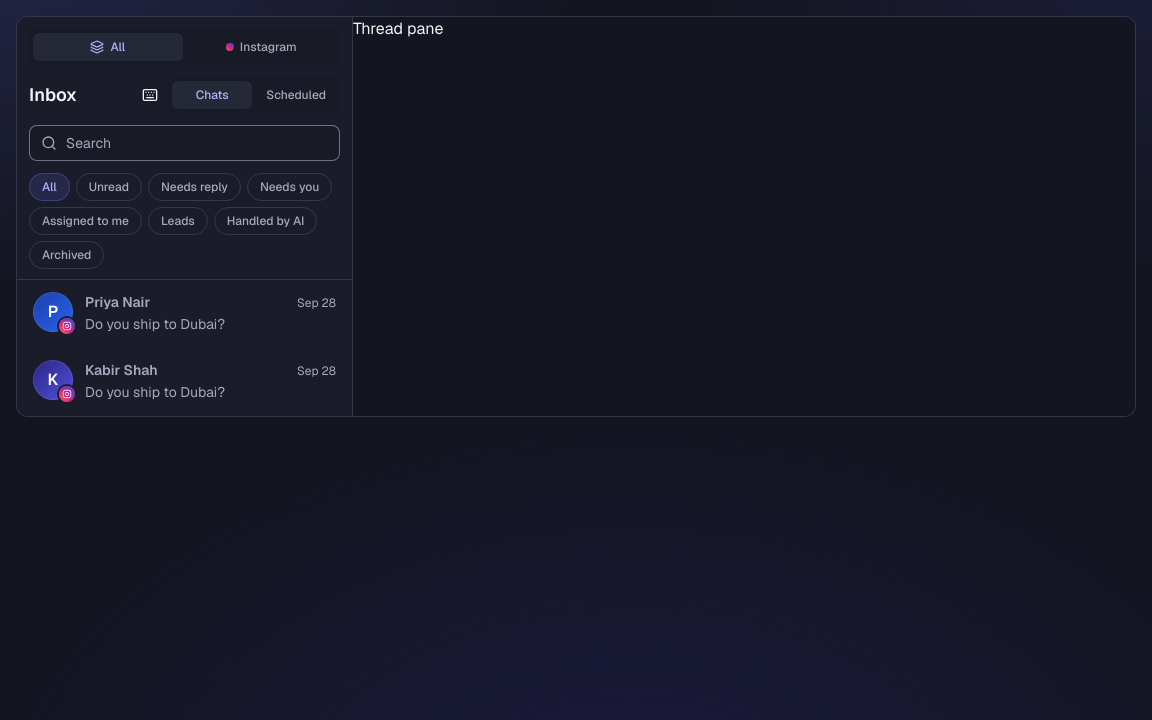
InboxShell list states (§4.7) › Needs you and Archived are plain chips; there is no More menu (D-15 item 4)
The width and height of the screenshot is (1152, 720).
Expected: the text "Kabir Shah" is shown, [85,361,158,379]
Click the radio button labelled "Needs you" at {"x": 290, "y": 187}, box [247,173,332,201]
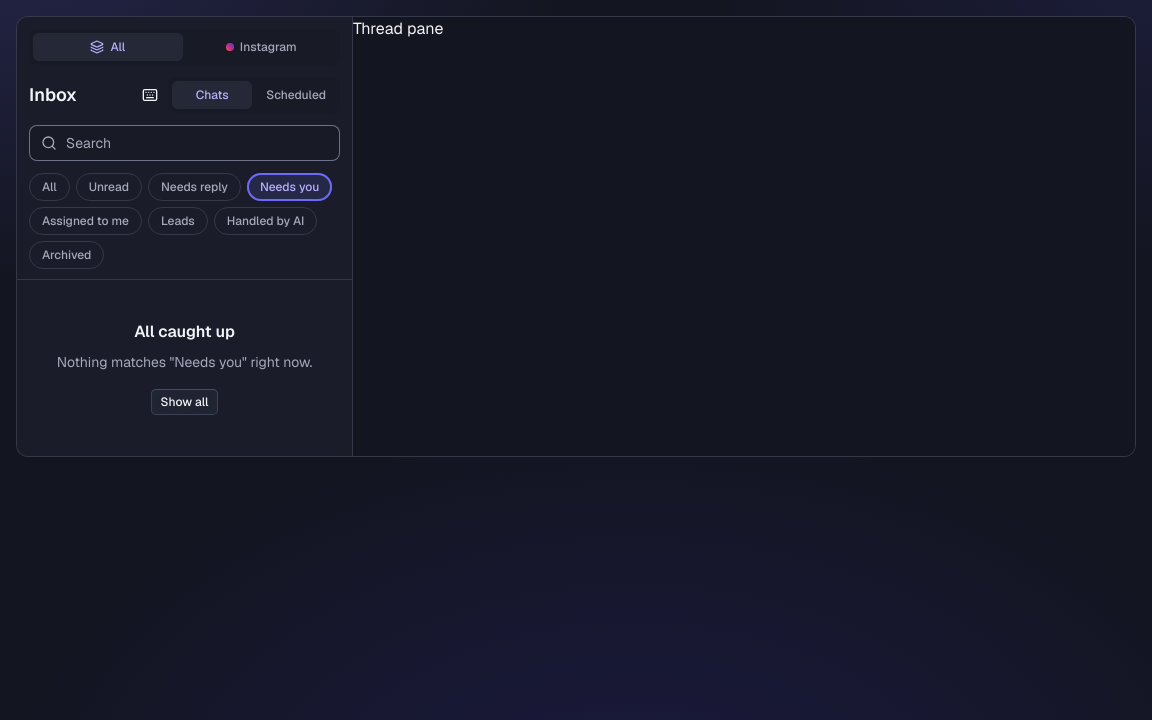
Expected: the text "Nothing matches \"Needs you\" right now." is shown, [57,352,312,372]
Click the radio button labelled "Archived" at {"x": 67, "y": 255}, box [29,241,104,269]
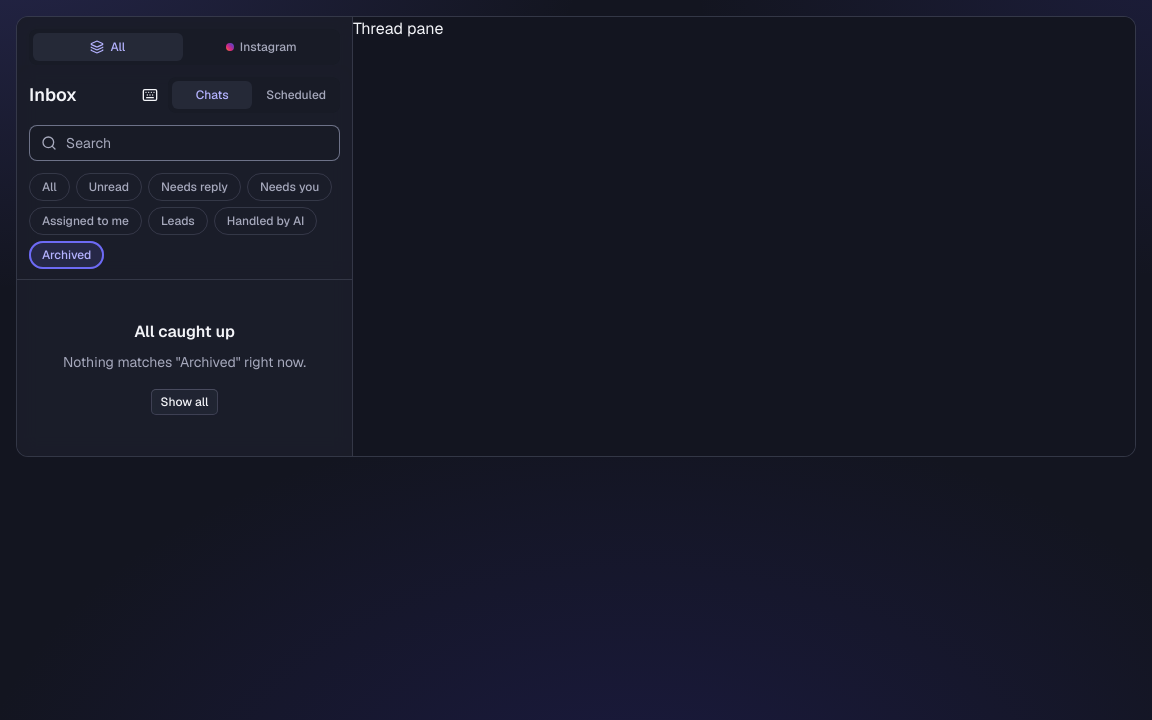
Expected: the text "Nothing matches \"Archived\" right now." is shown, [63,352,306,372]
